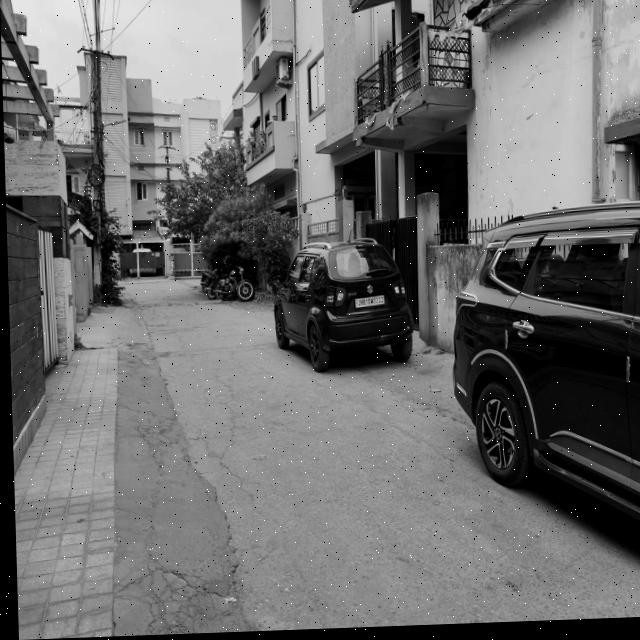bike: (208, 264, 255, 305)
car: (439, 208, 640, 594), (261, 235, 418, 379)
